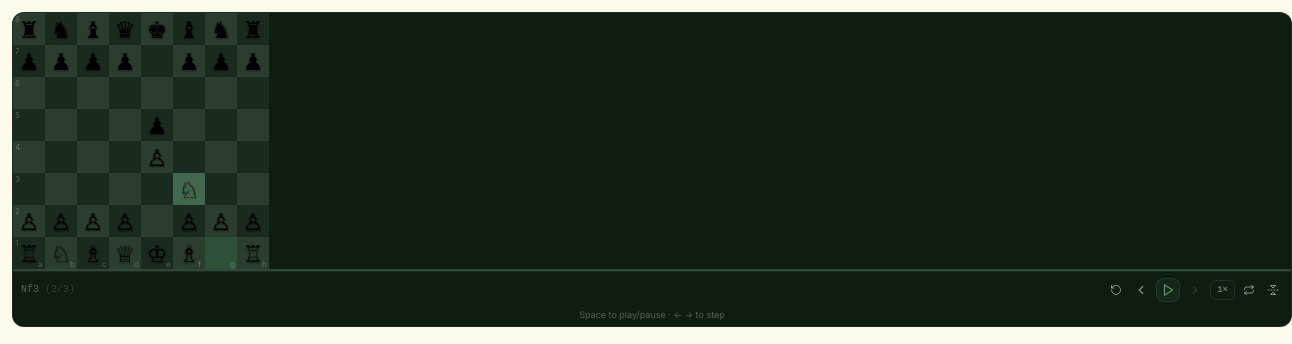
Test case: MiniChessBoard — navigation › keyboard ArrowRight steps forward from start
The image size is (1292, 344).
Click the button named "Go to start" at (1116, 290), box [1106,280,1126,300]
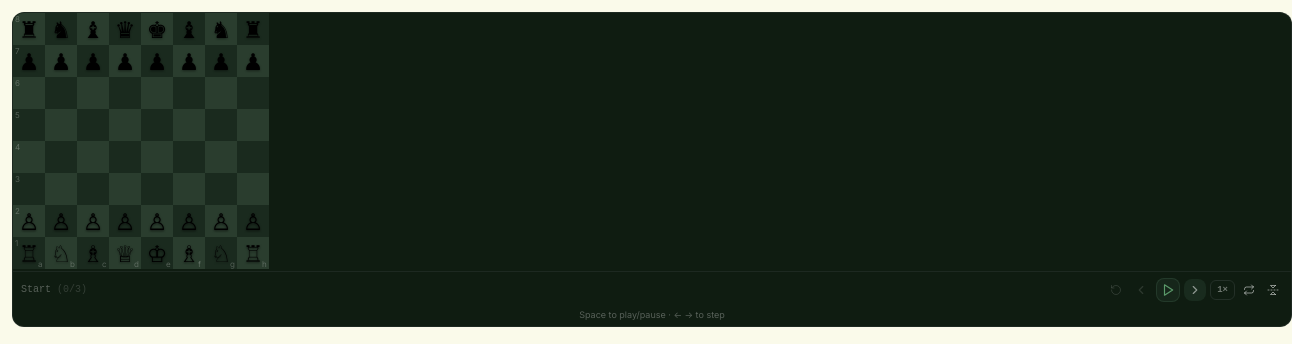
Press ArrowRight in the element named "Chessboard showing opening line: e4 e5 Nf3"
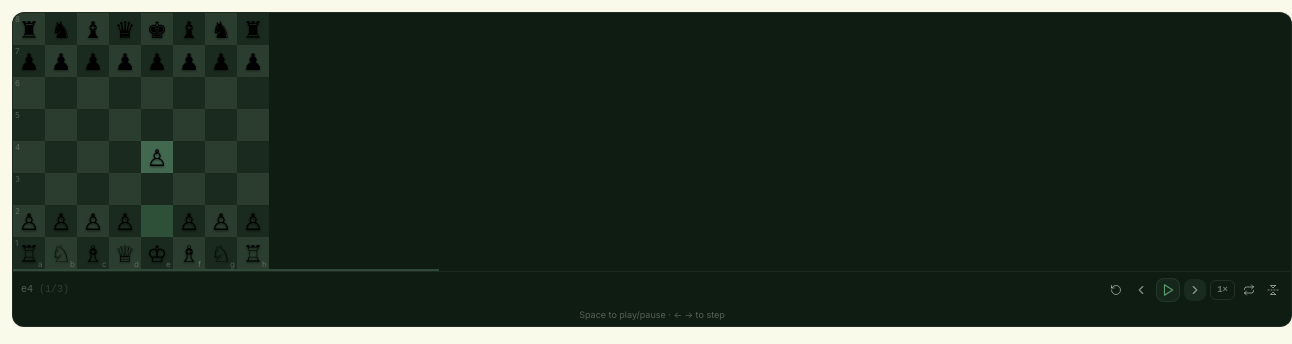
Result: the button named "Previous move" is enabled at [1130,279,1152,301]
